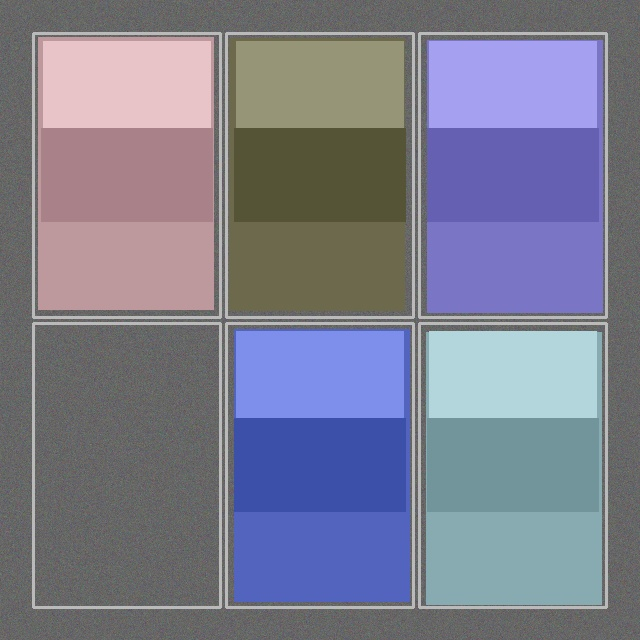space-empty: (35, 325, 218, 605)
space-occupied: (35, 35, 218, 315), (228, 35, 411, 315), (421, 35, 604, 315), (228, 325, 411, 605), (421, 325, 604, 605)
